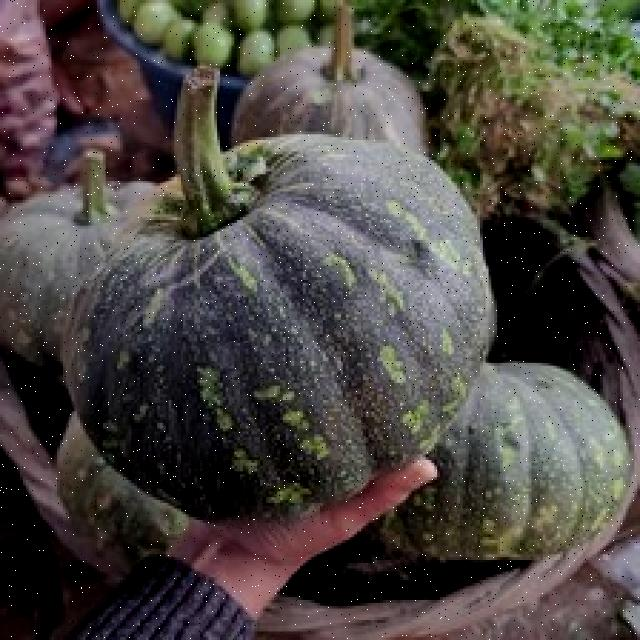Pumpkin: (88, 83, 550, 524)
